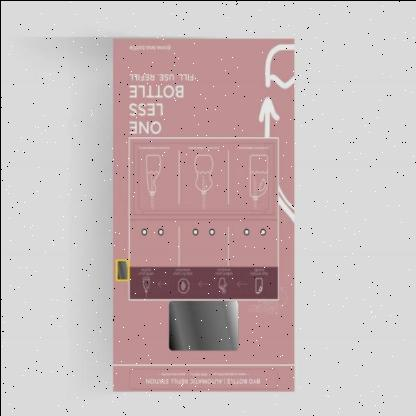Others: (104, 30, 298, 394)
